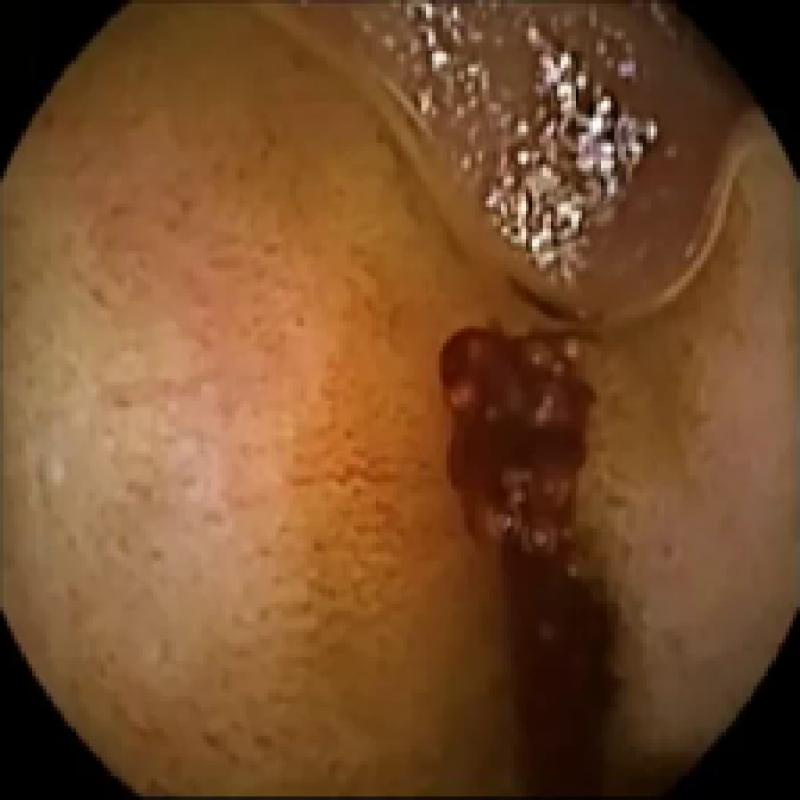bleeding: (432, 278, 622, 793)
